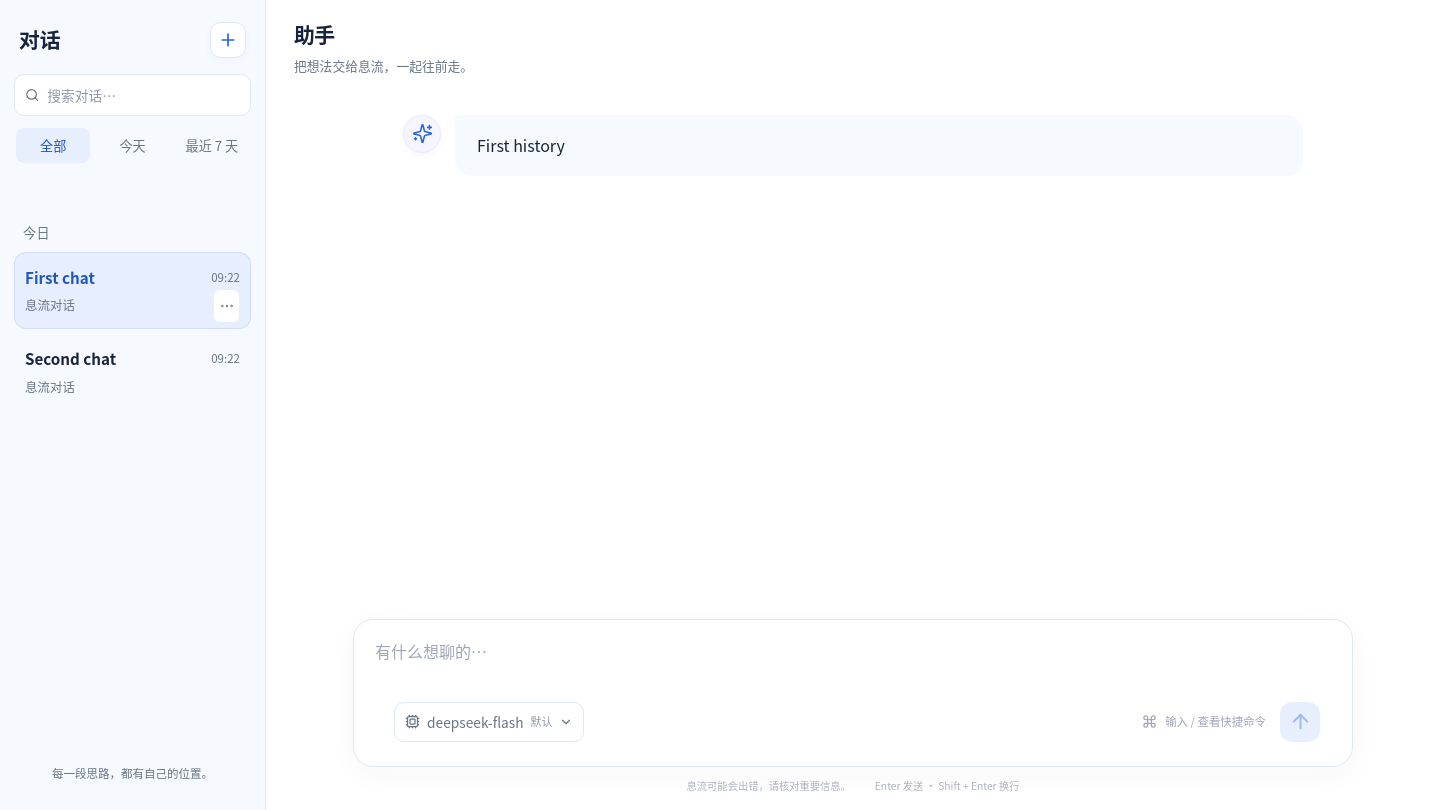
Test: late model PATCH response cannot overwrite a newly selected conversation
Expected: the text "First history" is shown, left=477, top=133, right=565, bottom=157
What coordinates should you click on to do the following:
click the dropdown named "当前对话模型"
I would click on:
 (489, 722)
Its box is left=394, top=702, right=584, bottom=742.
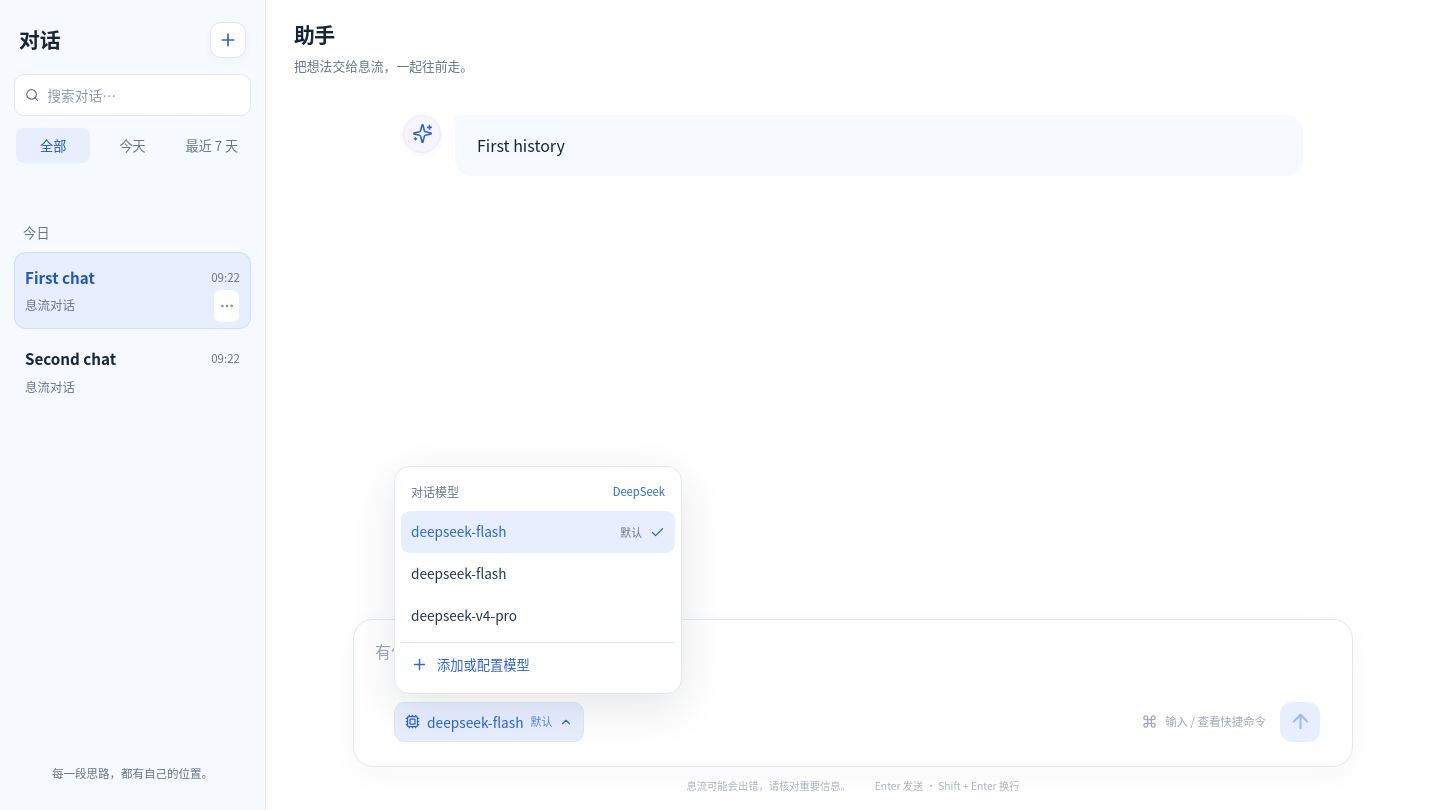
What coordinates should you click on to do the following:
click the option "deepseek-v4-pro"
I would click on:
 (464, 615)
Its box is left=411, top=605, right=517, bottom=625.
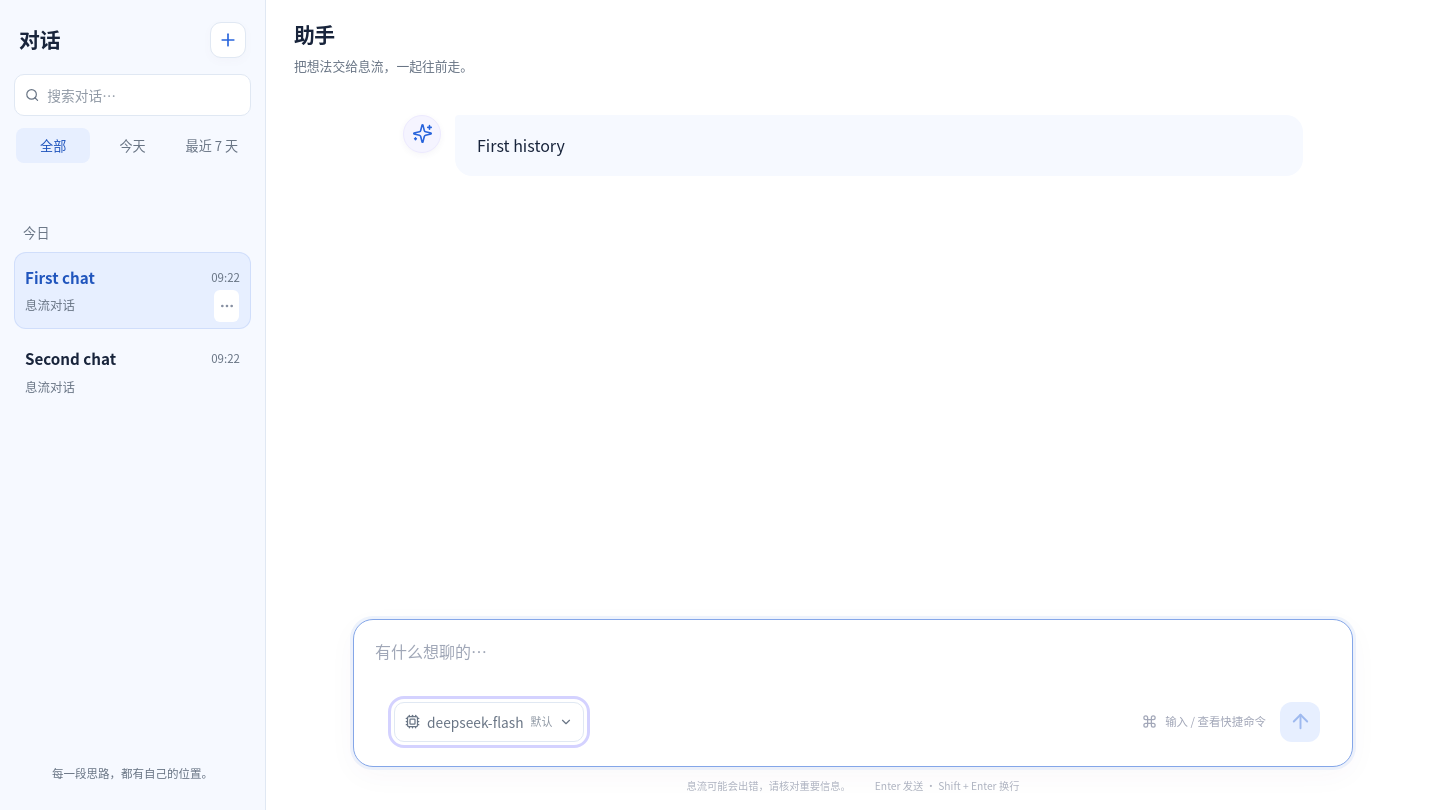
What coordinates should you click on to do the following:
click the button "Second chat 息流对话 09:22"
I would click on:
 (132, 372)
Its box is left=15, top=334, right=250, bottom=410.
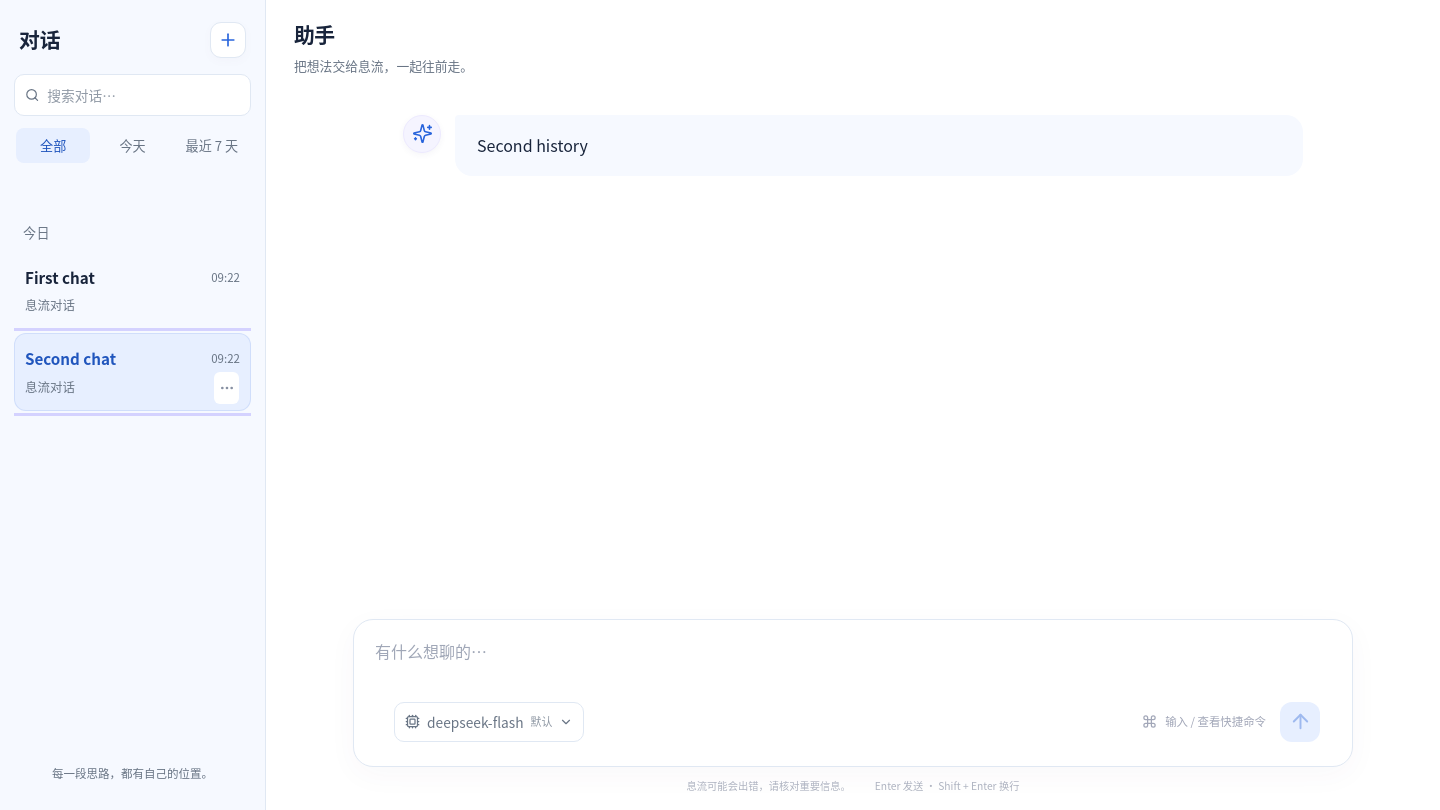
Expected: the dropdown named "当前对话模型" is enabled, left=394, top=702, right=584, bottom=742
Expected: the text "Second history" is shown, left=477, top=133, right=588, bottom=157
